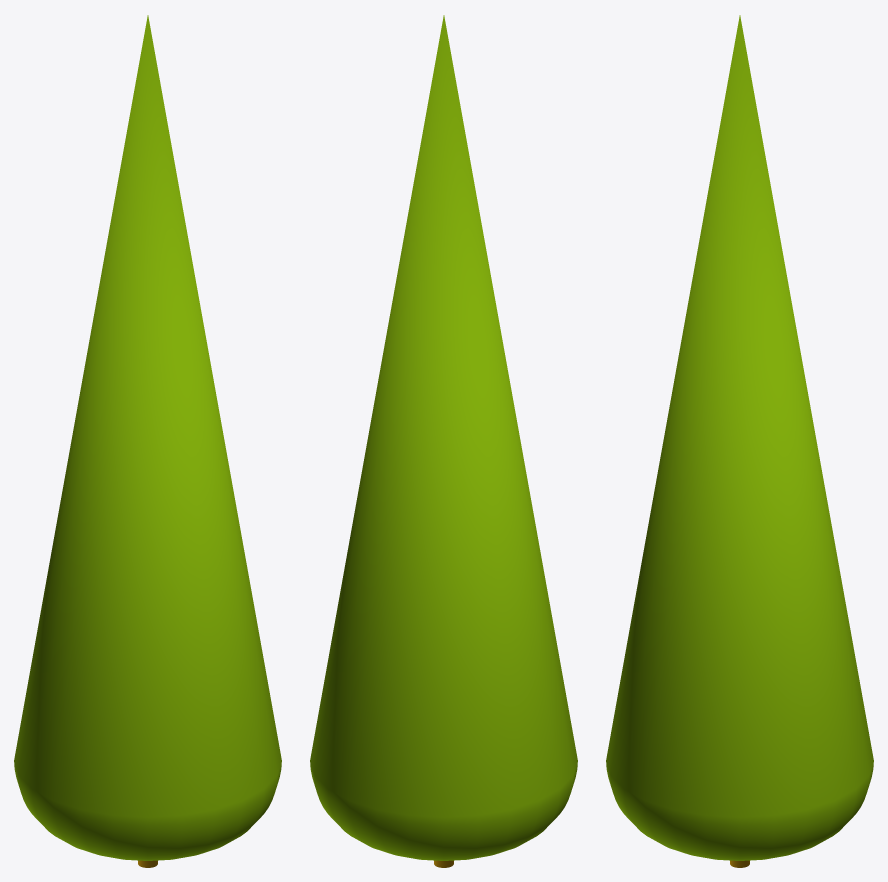
Rendered from HPKo7m.glb.
3 renders of one model, left to right at view 1: azimuth 30°, elevation 25°; view 2: azimuth 150°, elevation 25°; view 3: azimuth 270°, elevation 25°, orthographic.
Visible parts, largest first — view 1: HPKo7m; view 2: HPKo7m; view 3: HPKo7m.
Part boxes in pixels (x1,y1,x2,y2): HPKo7m: (14, 15, 281, 867); HPKo7m: (310, 15, 577, 867); HPKo7m: (606, 15, 873, 867).
Bounding box in the file's own units: 2 × 7 × 2.
